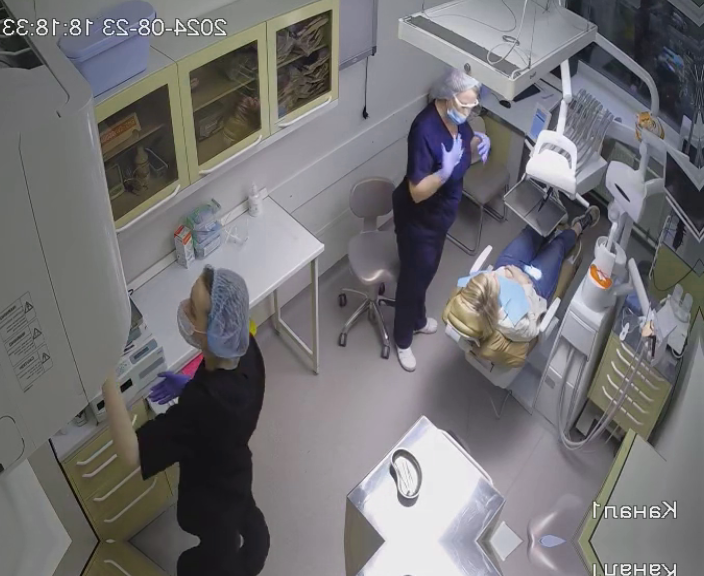Patient: (440, 227, 586, 375)
